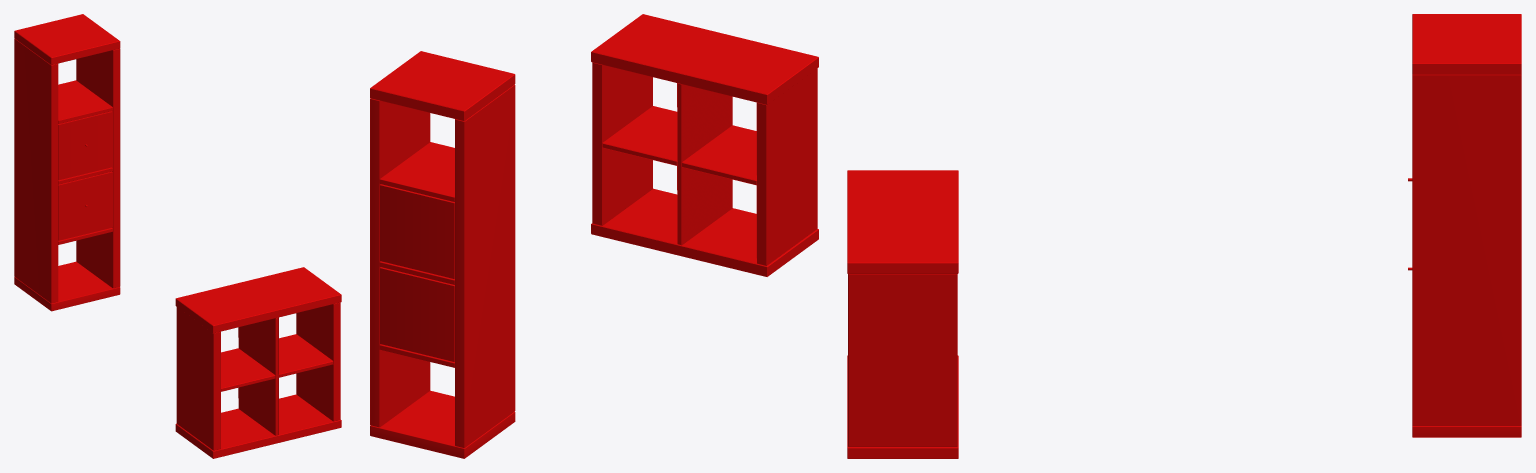
Rendered from RoboTHOR_shelving_units_grp.fbx.
The picture shows the model from 3 angles, left to right: view 1: azimuth 30°, elevation 25°; view 2: azimuth 150°, elevation 25°; view 3: azimuth 270°, elevation 25°; orthographic projection. The views are drawn at different scales.
Visible parts, largest first — view 1: robothor_shelving_unit_kallax_large, robothor_shelving_unit_kallax_small, robothor_shelving_unit_drawer_1_kallax_large, robothor_shelving_unit_drawer_2_kallax_large, ps_robothor_shelving_unit_kallax_large_1, ps_robothor_shelving_unit_kallax_small_1, ps_robothor_shelving_unit_kallax_large_2, ps_robothor_shelving_unit_kallax_small_3, ps_robothor_shelving_unit_kallax_small_4, ps_robothor_shelving_unit_kallax_small_2; view 2: robothor_shelving_unit_kallax_small, robothor_shelving_unit_kallax_large, robothor_shelving_unit_drawer_1_kallax_large, robothor_shelving_unit_drawer_2_kallax_large, ps_robothor_shelving_unit_kallax_small_3, ps_robothor_shelving_unit_kallax_small_1, ps_robothor_shelving_unit_kallax_large_1, ps_robothor_shelving_unit_kallax_large_2, ps_robothor_shelving_unit_kallax_small_4, ps_robothor_shelving_unit_kallax_small_2; view 3: robothor_shelving_unit_kallax_large, robothor_shelving_unit_kallax_small.
Part boxes in pixels (bbox=[...]): robothor_shelving_unit_kallax_large: bbox=[14, 14, 120, 311]; robothor_shelving_unit_kallax_small: bbox=[175, 267, 341, 458]; robothor_shelving_unit_drawer_1_kallax_large: bbox=[58, 111, 112, 180]; robothor_shelving_unit_drawer_2_kallax_large: bbox=[58, 171, 112, 240]; ps_robothor_shelving_unit_kallax_large_1: bbox=[58, 50, 112, 120]; ps_robothor_shelving_unit_kallax_small_1: bbox=[221, 318, 275, 387]; ps_robothor_shelving_unit_kallax_large_2: bbox=[58, 232, 112, 301]; ps_robothor_shelving_unit_kallax_small_3: bbox=[221, 379, 275, 448]; ps_robothor_shelving_unit_kallax_small_4: bbox=[278, 378, 332, 434]; ps_robothor_shelving_unit_kallax_small_2: bbox=[278, 317, 332, 374]; robothor_shelving_unit_kallax_small: bbox=[591, 14, 818, 276]; robothor_shelving_unit_kallax_large: bbox=[370, 51, 515, 458]; robothor_shelving_unit_drawer_1_kallax_large: bbox=[380, 184, 454, 278]; robothor_shelving_unit_drawer_2_kallax_large: bbox=[380, 267, 454, 361]; ps_robothor_shelving_unit_kallax_small_3: bbox=[682, 167, 756, 263]; ps_robothor_shelving_unit_kallax_small_1: bbox=[682, 84, 756, 180]; ps_robothor_shelving_unit_kallax_large_1: bbox=[380, 100, 454, 196]; ps_robothor_shelving_unit_kallax_large_2: bbox=[380, 349, 454, 445]; ps_robothor_shelving_unit_kallax_small_4: bbox=[602, 148, 677, 243]; ps_robothor_shelving_unit_kallax_small_2: bbox=[603, 83, 677, 160]; robothor_shelving_unit_kallax_large: bbox=[1412, 14, 1521, 437]; robothor_shelving_unit_kallax_small: bbox=[847, 170, 958, 458].
Size of the model in its own units: 77.99 by 147 by 240.
